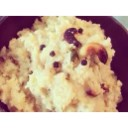venpongal: (3, 17, 121, 111)
